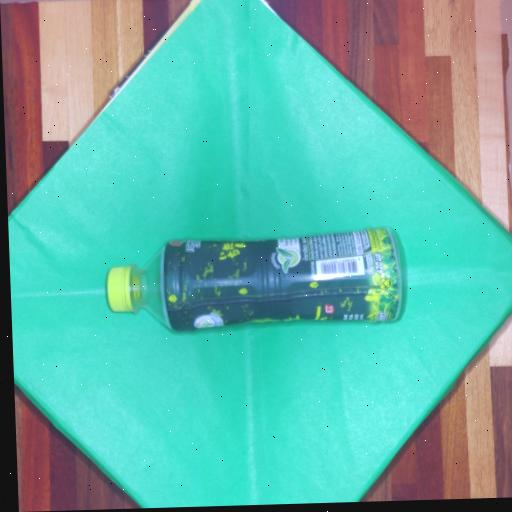bottle: (107, 234, 405, 337)
